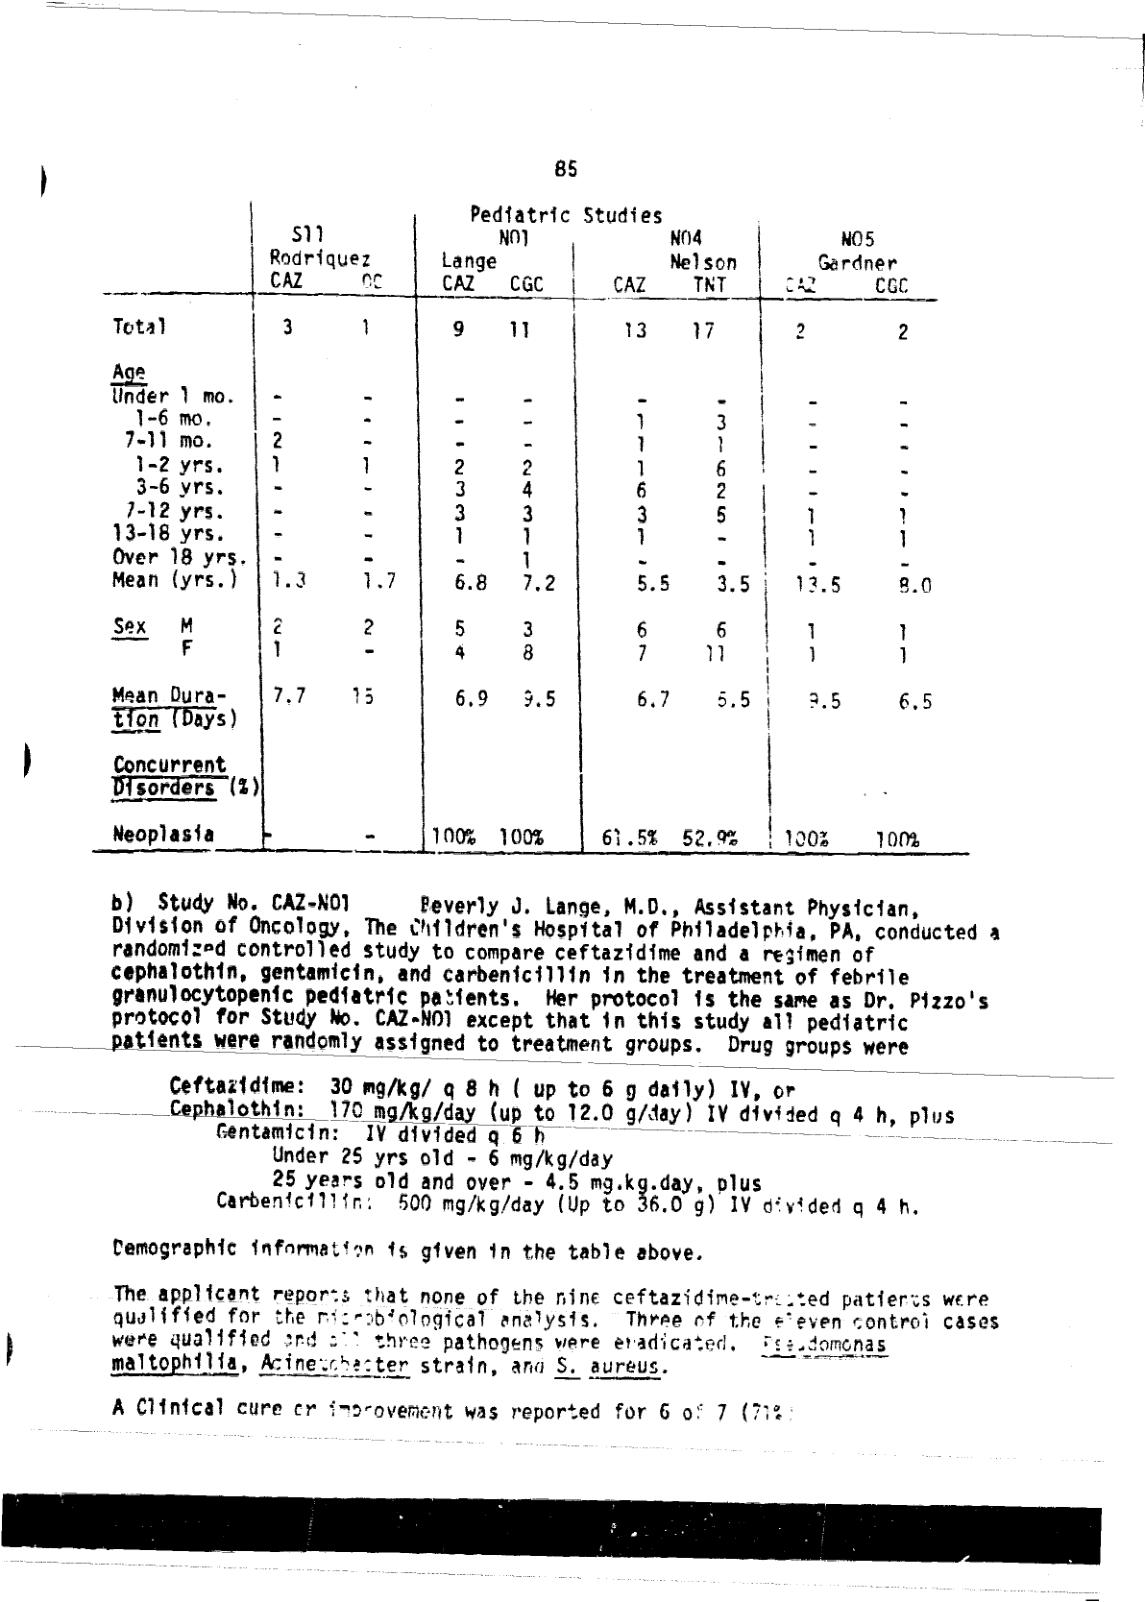partial_lined_merged_cells: (86, 197, 988, 861)
